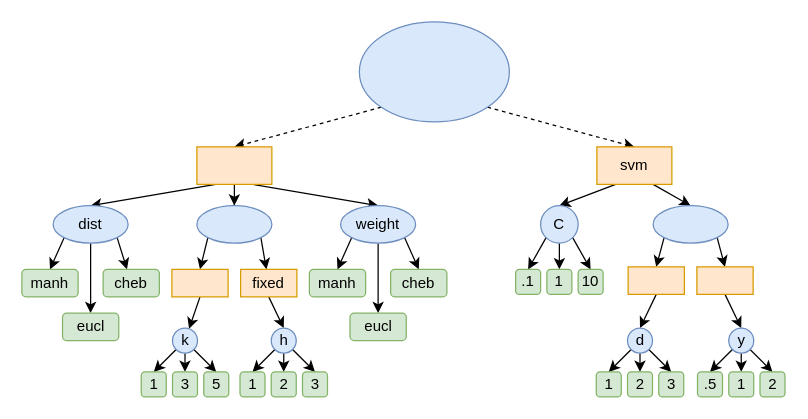
This 808x419 diagram has some shape labels left out. Here are the shapes that lost their labels. From the top down, the box of each, then its label:
(358, 21, 509, 122): Универсальный алгоритм
(196, 146, 272, 184): knn
(196, 204, 272, 243): window
(652, 204, 728, 243): kernel
(171, 268, 228, 297): var
(627, 266, 684, 294): poly
(696, 266, 753, 294): gauss
